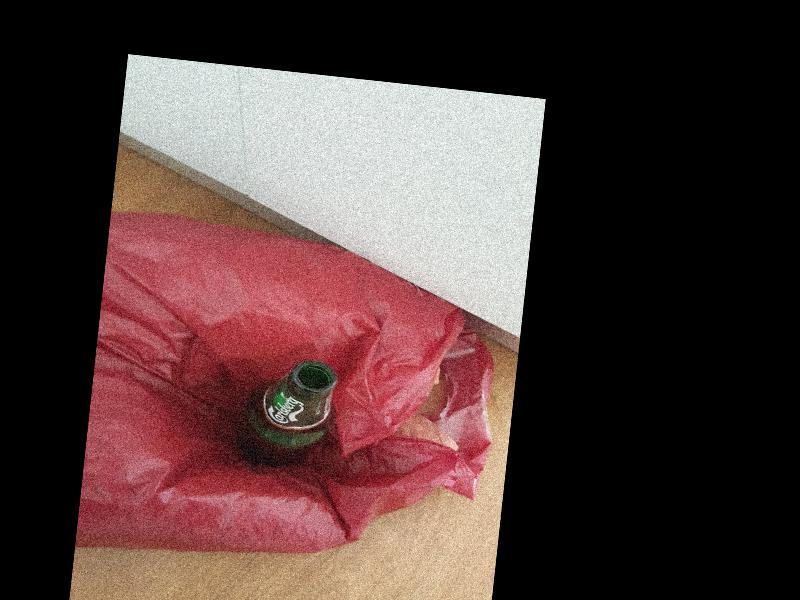Beer: (238, 354, 339, 473)
